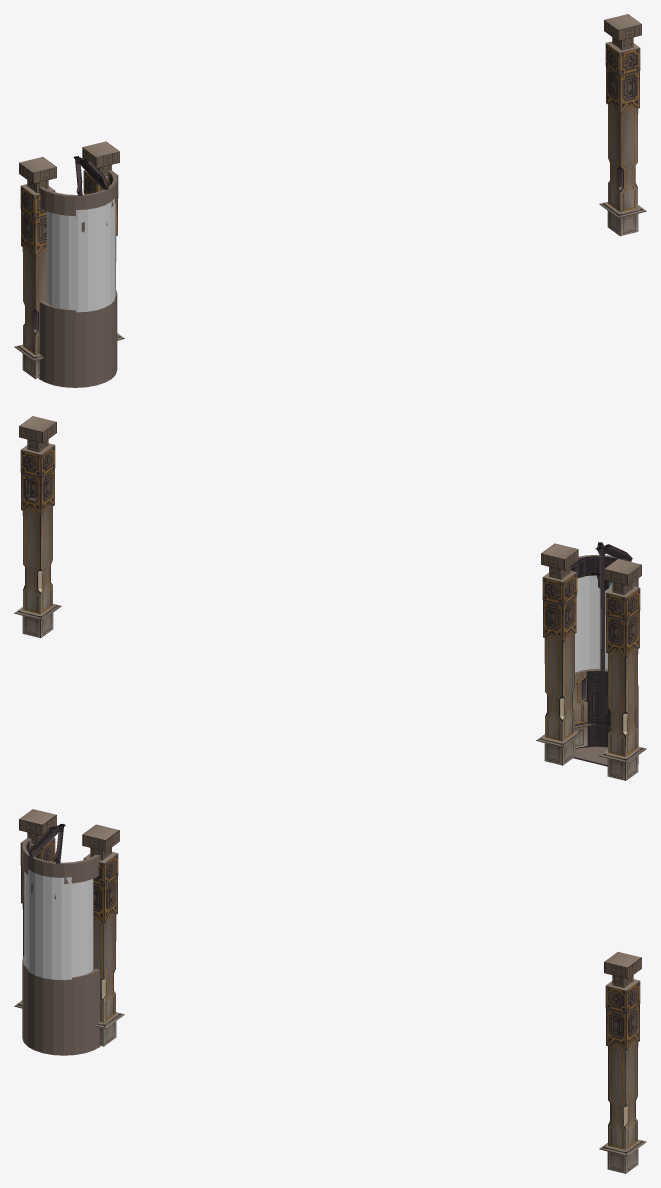
Rendered from side_murals.fbx.
3 renders of one model, top to bottom at view 1: azimuth 30°, elevation 25°; view 2: azimuth 150°, elevation 25°; view 3: azimuth 330°, elevation 25°, orthographic.
Parts seen in each view (by area): view 1: Circle.026, Cube.156, Circle.027, Cube.087, Cube.088; view 2: Cube.088, Cube.087, Cube.156, Circle.026, Circle.027, Cube.086; view 3: Circle.026, Circle.027, Cube.156, Cube.088, Cube.087.
Boxes of the visible parts, x1,y1,x2,y2 form: Circle.026: [39, 170, 117, 387]; Cube.156: [599, 14, 646, 236]; Circle.027: [46, 198, 115, 312]; Cube.087: [14, 157, 56, 378]; Cube.088: [82, 141, 124, 340]; Cube.088: [536, 543, 583, 765]; Cube.087: [599, 559, 646, 780]; Cube.156: [14, 416, 61, 637]; Circle.026: [570, 554, 638, 766]; Circle.027: [575, 575, 612, 672]; Cube.086: [596, 542, 605, 670]; Circle.026: [22, 838, 100, 1055]; Circle.027: [24, 869, 93, 979]; Cube.156: [599, 952, 646, 1173]; Cube.088: [82, 824, 124, 1046]; Cube.087: [14, 809, 56, 1008].
Size of the model in its own units: 142216 by 47546 by 14767.
